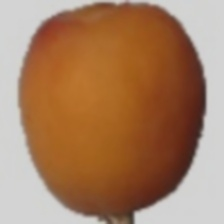apricot: (29, 15, 198, 211)
